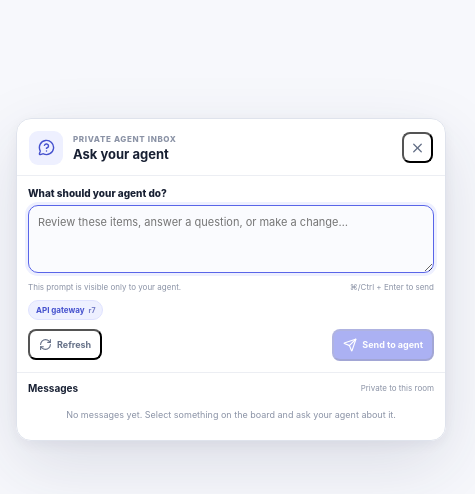
Test case: AskAgentPanel › reconciles an ambiguous in-flight send from polling without announcing success twice
The image size is (475, 494).
expect the text "No messages yet. Select something on the board and ask your agent about it." is shown: met, box [66,408,396,420]
Type "Inspect ambiguous delivery." into the text box labelled "What should your agent do?".
click(231, 239); type("Inspect ambiguous delivery.")  # box [28,205,434,272]
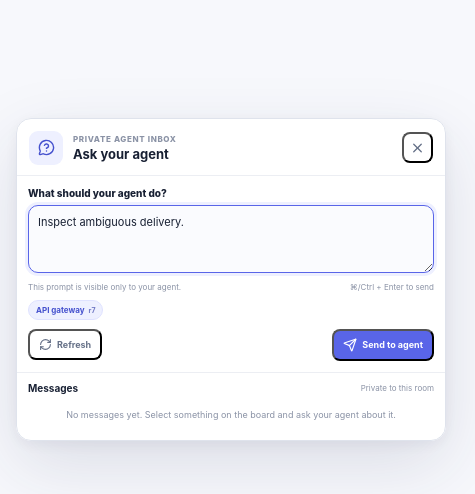
Click the button "Send to agent".
click(383, 344)  # box [332,328,434,360]
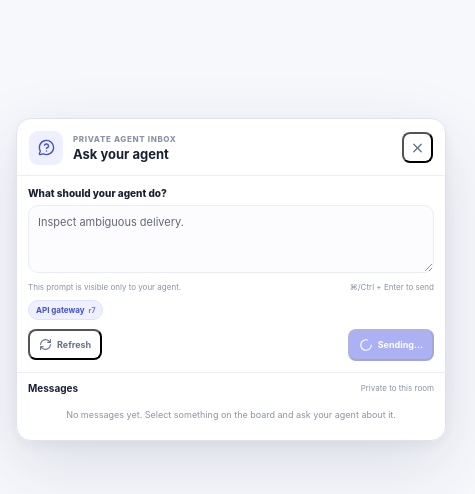
Click the button "Refresh".
click(65, 344)  # box [28,329,102,360]
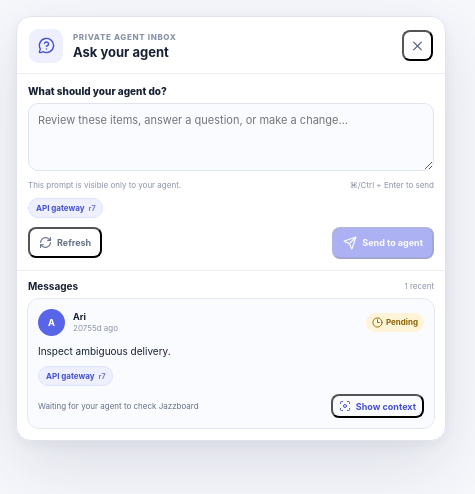
expect the text box labelled "What should your agent do?" is empty: met, box [28,103,434,170]
expect the text box labelled "What should your agent do?" is enabled: met, box [28,103,434,170]
